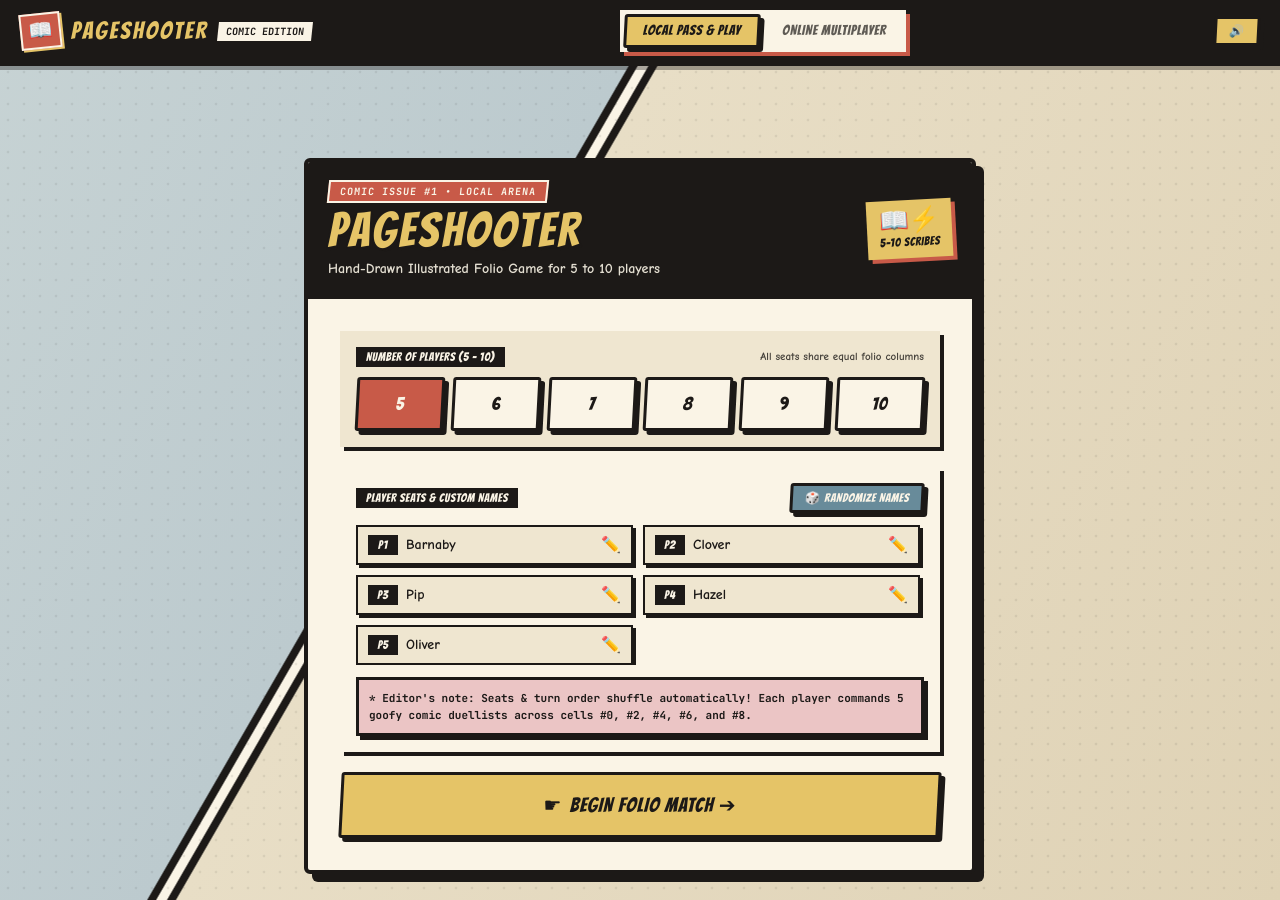
Mode Switching & Offline Mode Isolation Tests › switches to Online Multiplayer mode and renders multiplayer lobby without requiring login
The image size is (1280, 900).
Click the button "Online Multiplayer" at (834, 31), box 766,17 -> 902,45
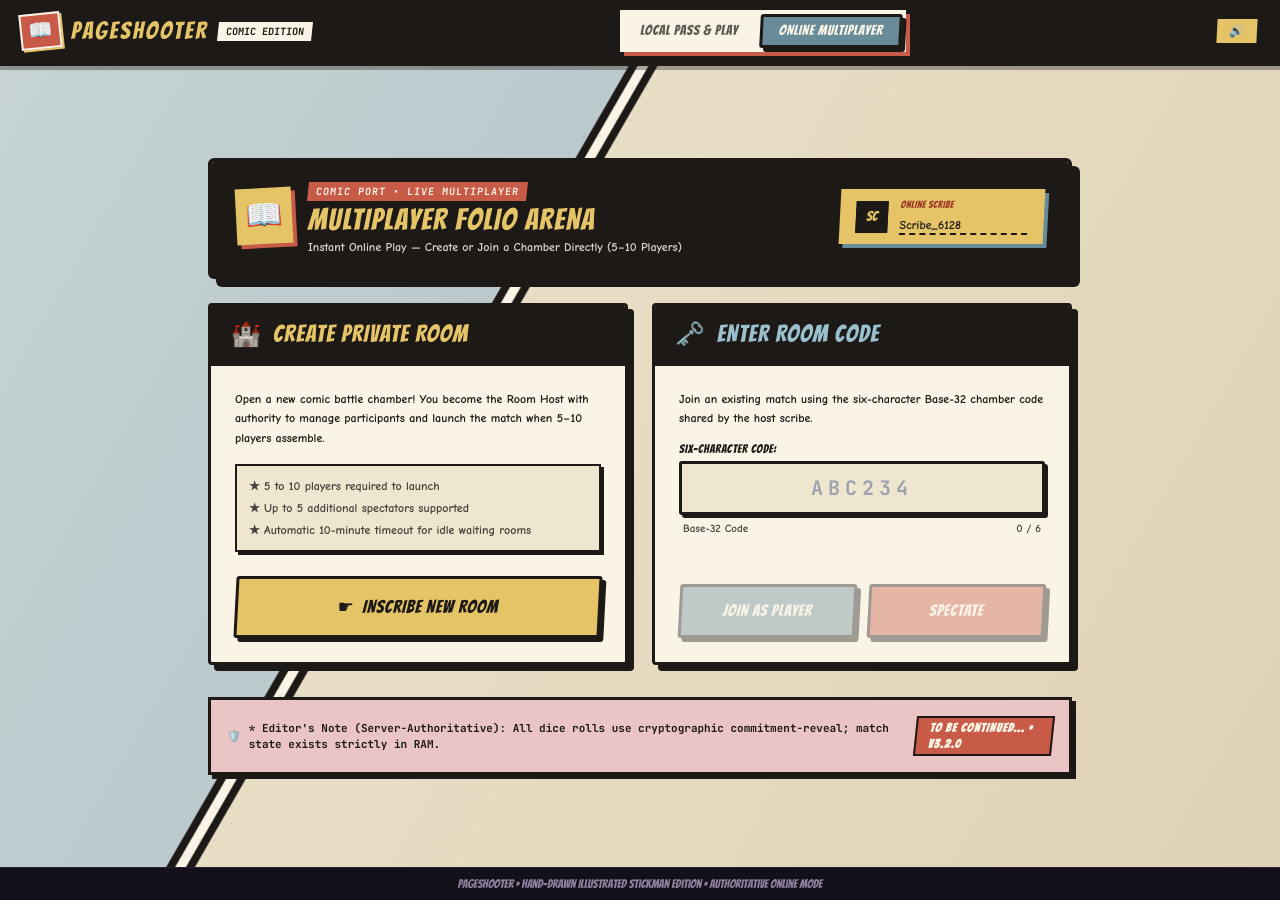
Check: the heading "Multiplayer Folio Arena" is shown, box 308,204 -> 595,235
Check: the heading "Create Private Room" is shown, box 273,318 -> 468,350
Check: the heading "Enter Room Code" is shown, box 717,318 -> 880,350
